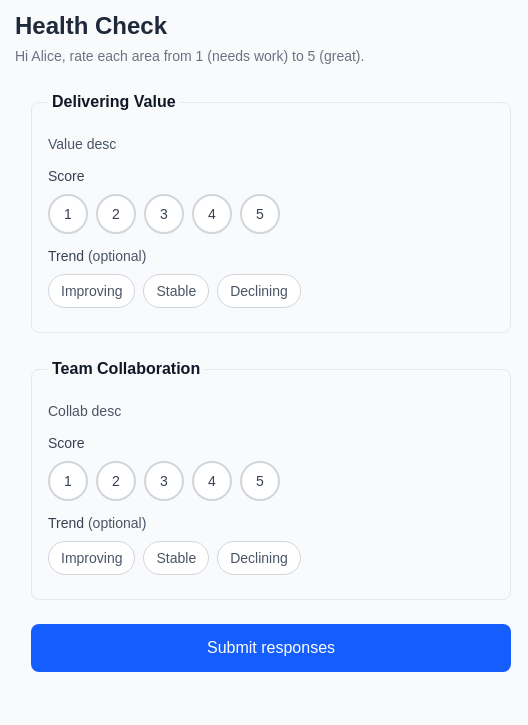
it: Session Link Page — Response Submission › network error handling (Req 4.10) › retains user input on network error
Expected: the text "Delivering Value" is shown, x1=48 y1=90 x2=180 y2=114
Fill scores
Click the radio button labelled "4" below "Value desc".
click(212, 214)  # box x1=192 y1=194 x2=232 y2=234
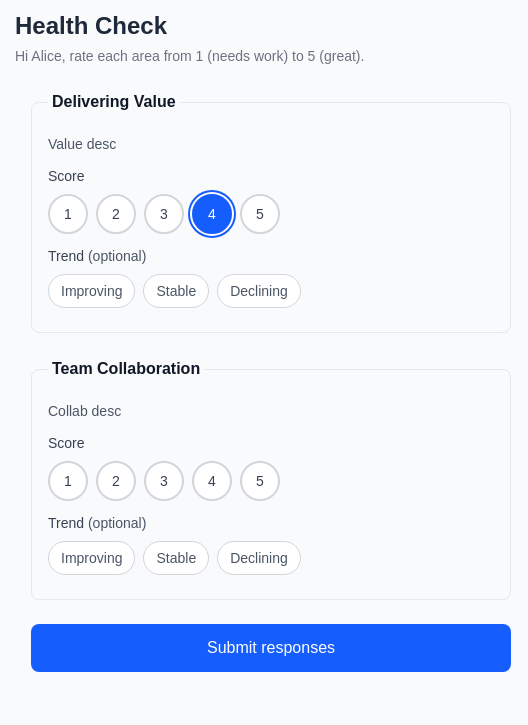
Click the radio button labelled "5" below "Collab desc".
click(260, 481)  # box x1=240 y1=461 x2=280 y2=501
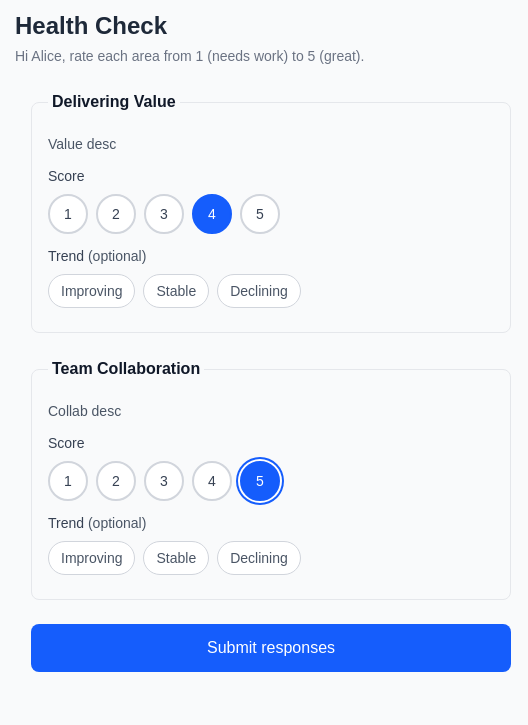
Click the button "Submit responses".
click(271, 648)  # box x1=31 y1=624 x2=511 y2=672
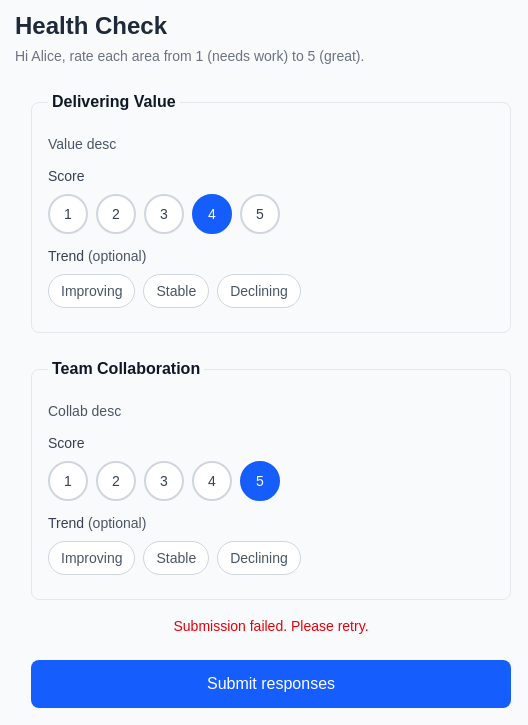
Now the radio button labelled "4" below "Value desc" is checked, box x1=192 y1=194 x2=232 y2=234
Now the radio button labelled "5" below "Collab desc" is checked, box x1=240 y1=461 x2=280 y2=501
Now the text "Submission failed. Please retry." is shown, box x1=174 y1=618 x2=369 y2=634
